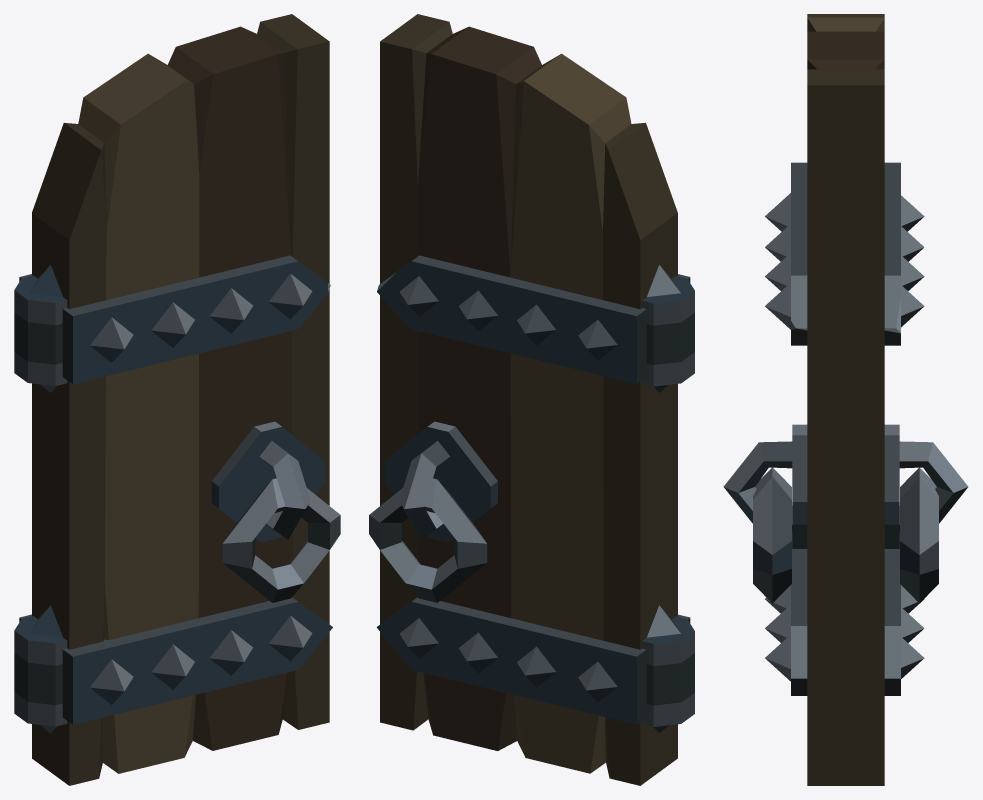
The model's file is door_wood_double_left.fbx.
3 views of the same model, side by side, from view 1: azimuth 30°, elevation 25°; view 2: azimuth 150°, elevation 25°; view 3: azimuth 270°, elevation 25° (orthographic). The views are drawn at different scales.
Parts seen in each view (by area): view 1: door_wood_double_left; view 2: door_wood_double_left; view 3: door_wood_double_left.
Boxes of the visible parts, <box> form: door_wood_double_left: <box>14,14,340,785</box>; door_wood_double_left: <box>369,14,694,785</box>; door_wood_double_left: <box>723,14,968,785</box>.
Bounding box in the file's own units: 111 × 250 × 79.25.
